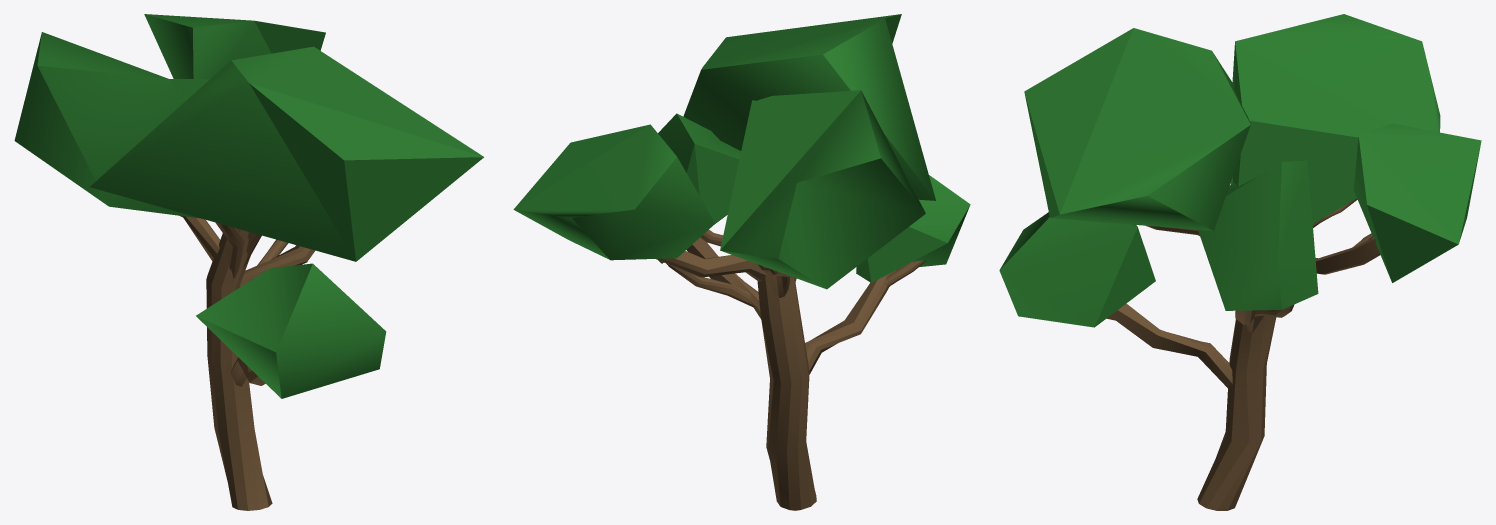
File: COL_ENV_WideTree.fbx
3 views of the same model, side by side, from view 1: azimuth 30°, elevation 25°; view 2: azimuth 150°, elevation 25°; view 3: azimuth 270°, elevation 25° (orthographic). The views are drawn at different scales.
Parts seen in each view (by area): view 1: pasted__pPlatonic1, pasted__pasted__pasted__pPlatonic2, pasted__pasted__pasted__pasted__pPlatonic1, pasted__pCylinder1, pasted__pasted__pPlatonic1, pasted__pCylinder13, pasted__pCylinder6, pasted__pCylinder3, pasted__pCylinder7; view 2: pasted__pasted__pasted__pPlatonic2, pasted__pPlatonic1, pasted__pasted__pPlatonic1, pasted__pCylinder1, pasted__pasted__pasted__pasted__pPlatonic1, pasted__pasted__pasted__pPlatonic1, pasted__pCylinder7, pasted__pCylinder4, pasted__pCylinder13, pasted__pCylinder14; view 3: pasted__pPlatonic1, pasted__pasted__pasted__pPlatonic2, pasted__pasted__pPlatonic1, pasted__pasted__pasted__pPlatonic1, pasted__pasted__pasted__pasted__pPlatonic1, pasted__pCylinder1, pasted__pCylinder7, pasted__pCylinder4.
Boxes of the visible parts, x1=… form: pasted__pPlatonic1: x1=90, y1=46, x2=483, y2=261; pasted__pasted__pasted__pPlatonic2: x1=14, y1=32, x2=209, y2=218; pasted__pasted__pasted__pasted__pPlatonic1: x1=196, y1=263, x2=386, y2=398; pasted__pCylinder1: x1=206, y1=228, x2=272, y2=510; pasted__pasted__pPlatonic1: x1=144, y1=14, x2=325, y2=79; pasted__pCylinder13: x1=240, y1=245, x2=315, y2=286; pasted__pCylinder6: x1=179, y1=215, x2=219, y2=261; pasted__pCylinder3: x1=215, y1=222, x2=244, y2=278; pasted__pCylinder7: x1=230, y1=357, x2=265, y2=386; pasted__pasted__pasted__pPlatonic2: x1=720, y1=90, x2=925, y2=289; pasted__pPlatonic1: x1=683, y1=14, x2=935, y2=200; pasted__pasted__pPlatonic1: x1=513, y1=124, x2=715, y2=260; pasted__pCylinder1: x1=757, y1=273, x2=816, y2=510; pasted__pasted__pasted__pasted__pPlatonic1: x1=856, y1=175, x2=970, y2=282; pasted__pasted__pasted__pPlatonic1: x1=658, y1=113, x2=740, y2=263; pasted__pCylinder7: x1=805, y1=269, x2=898, y2=374; pasted__pCylinder4: x1=656, y1=251, x2=766, y2=281; pasted__pCylinder13: x1=686, y1=237, x2=761, y2=319; pasted__pCylinder14: x1=666, y1=263, x2=754, y2=307; pasted__pPlatonic1: x1=1024, y1=28, x2=1250, y2=230; pasted__pasted__pasted__pPlatonic2: x1=1230, y1=14, x2=1440, y2=223; pasted__pasted__pPlatonic1: x1=1353, y1=123, x2=1481, y2=282; pasted__pasted__pasted__pPlatonic1: x1=1198, y1=160, x2=1318, y2=310; pasted__pasted__pasted__pasted__pPlatonic1: x1=999, y1=212, x2=1155, y2=327; pasted__pCylinder1: x1=1197, y1=315, x2=1276, y2=510; pasted__pCylinder7: x1=1107, y1=303, x2=1232, y2=388; pasted__pCylinder4: x1=1315, y1=237, x2=1380, y2=274.
Size of the model in its own units: 1833 by 2616 by 2508.
